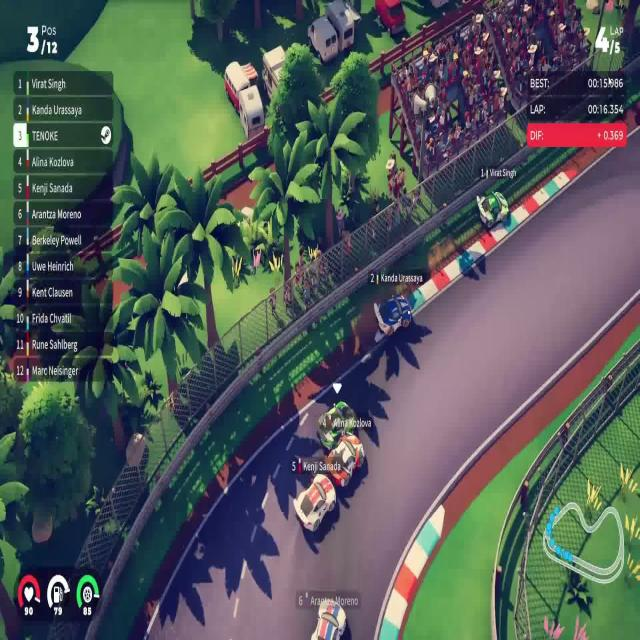car: (292, 472, 336, 534), (324, 432, 365, 488), (316, 399, 358, 452), (373, 292, 412, 338), (476, 189, 510, 231)
